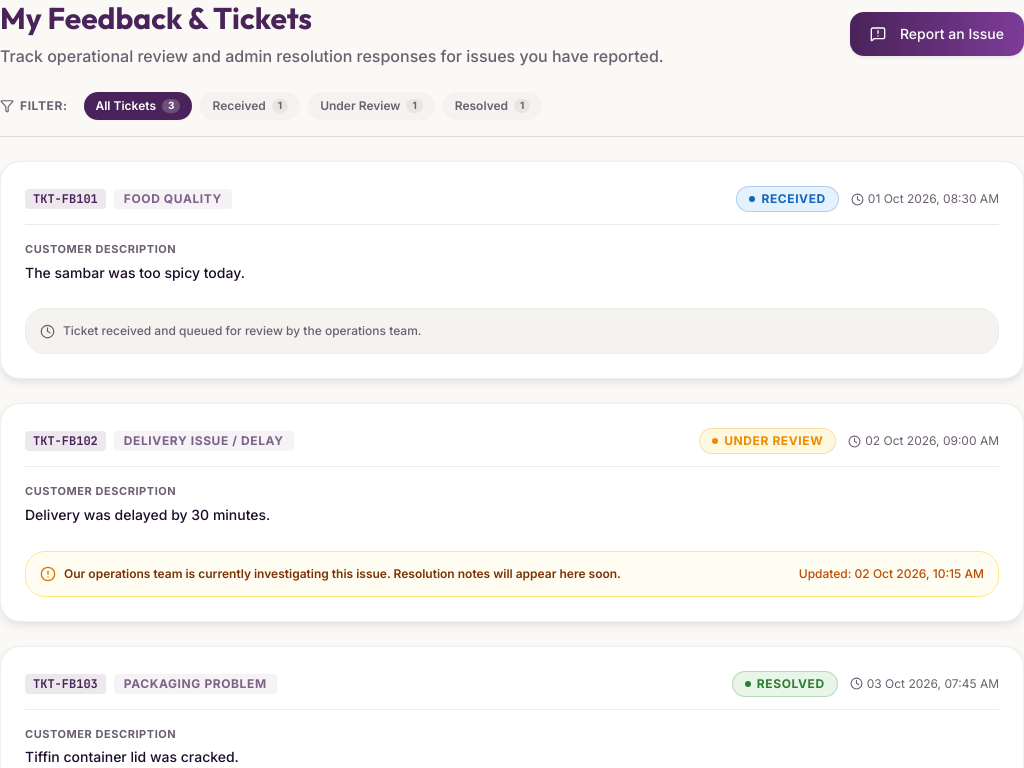
it: CustomerFeedbackPage › filters tickets by status correctly
The image size is (1024, 768).
Click the button "Resolved 1": (493, 106) [443, 92, 542, 120]
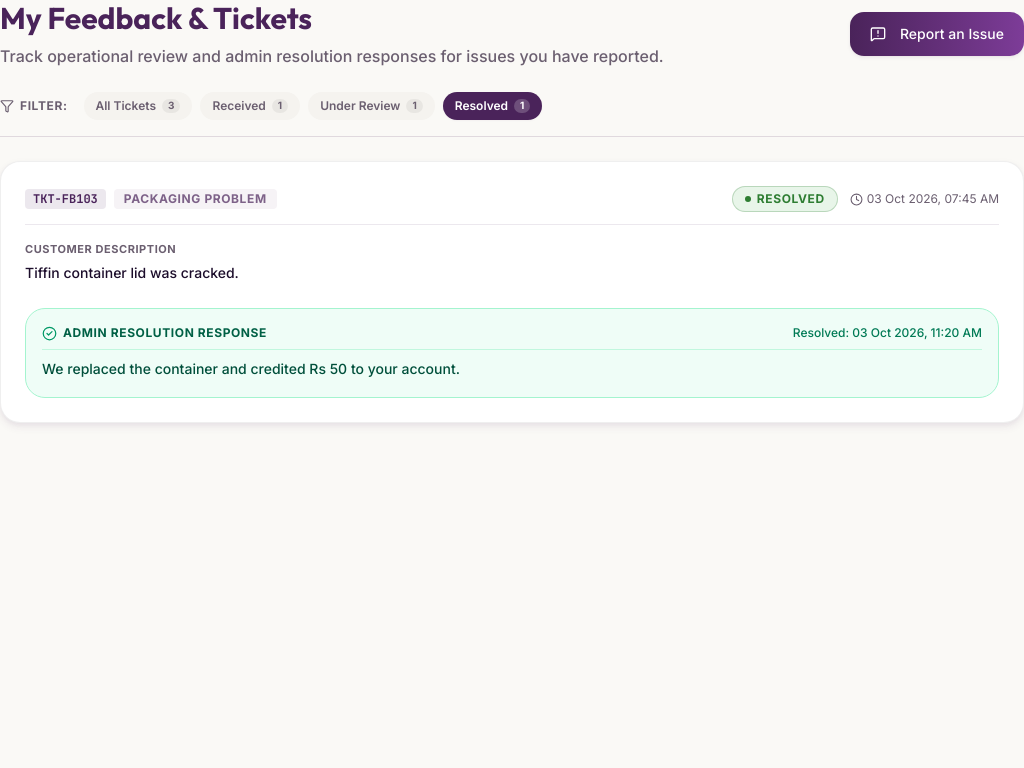
Expected: the text "Tiffin container lid was cracked." is shown, [25, 264, 239, 280]
Expected: the text "The sambar was too spicy today." is gone
Expected: the text "Delivery was delayed by 30 minutes." is gone
